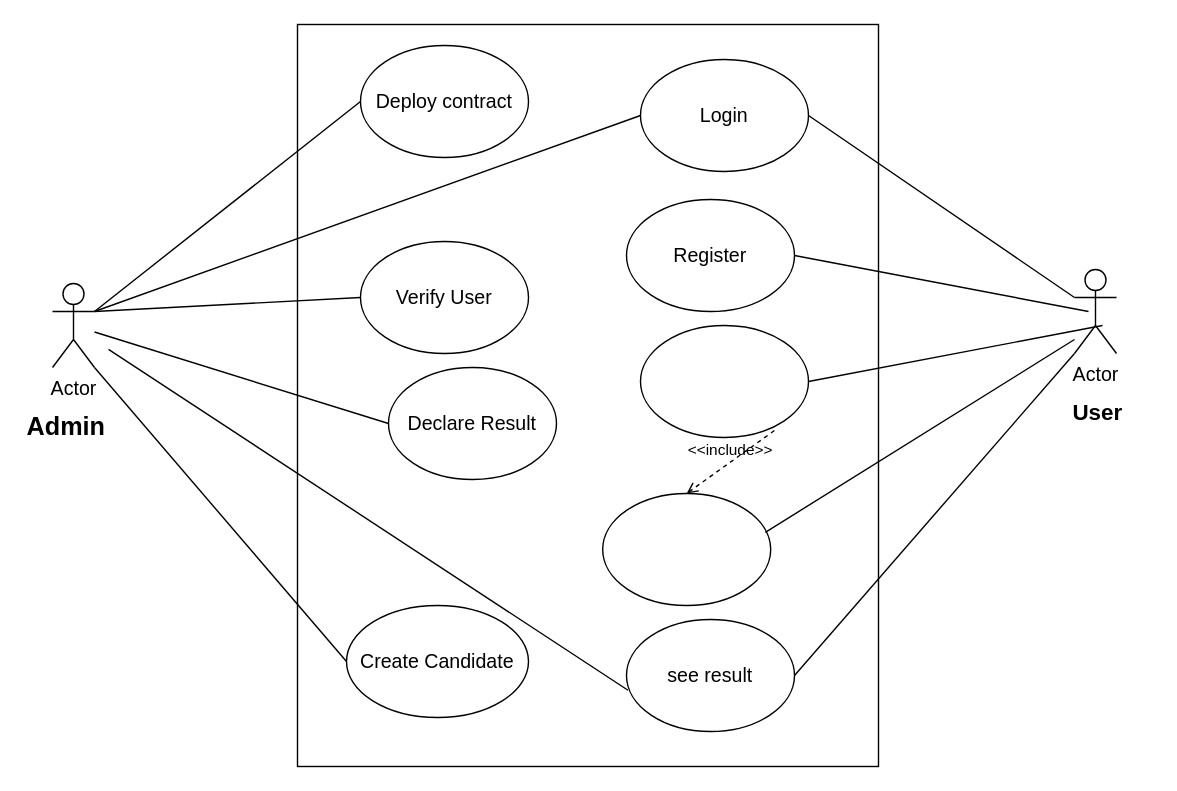
Image size: 1177x791. Some labels were removed from this diagram. Here are the shapes that lost their labels. From the top down, the centre of each, then its label:
At pixel 723 381: "Cast Vote".
At pixel 686 549: "make transaction".
